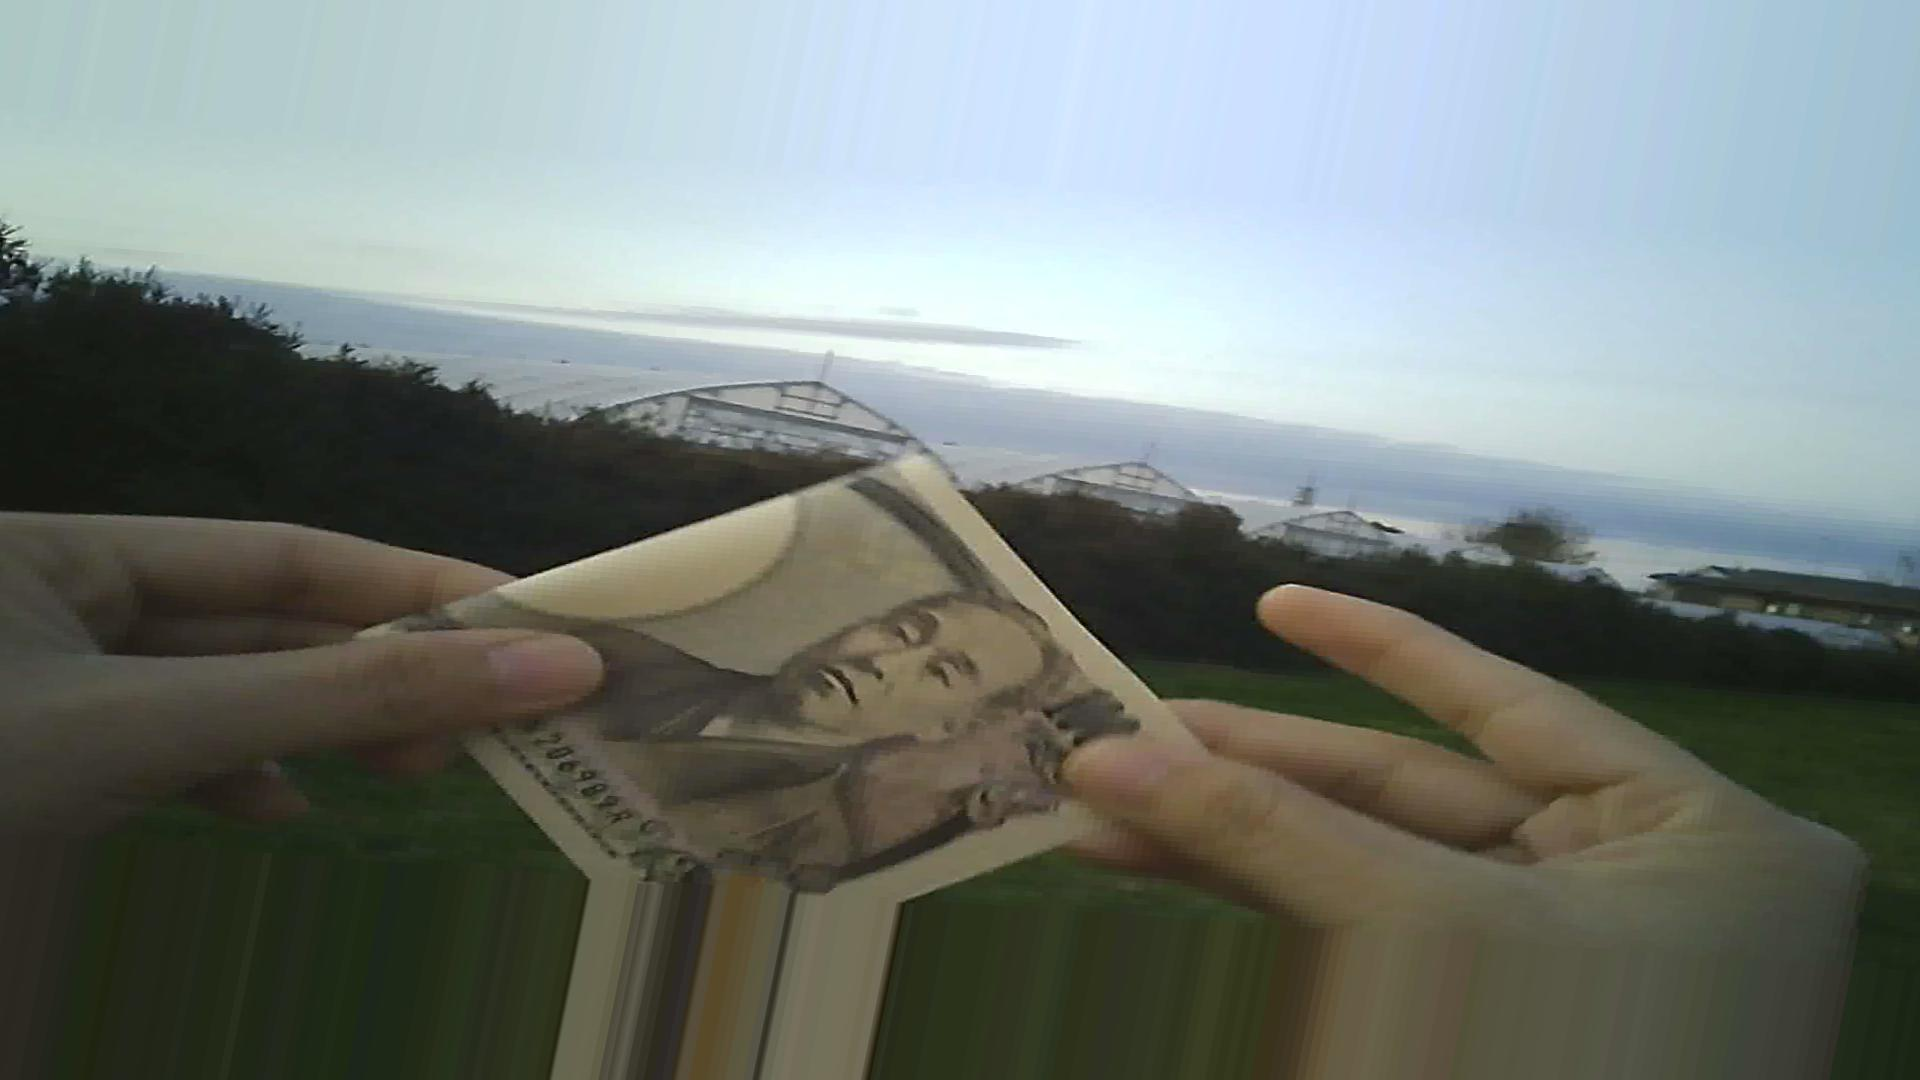10,000 Yen: (431, 452, 1182, 907)
